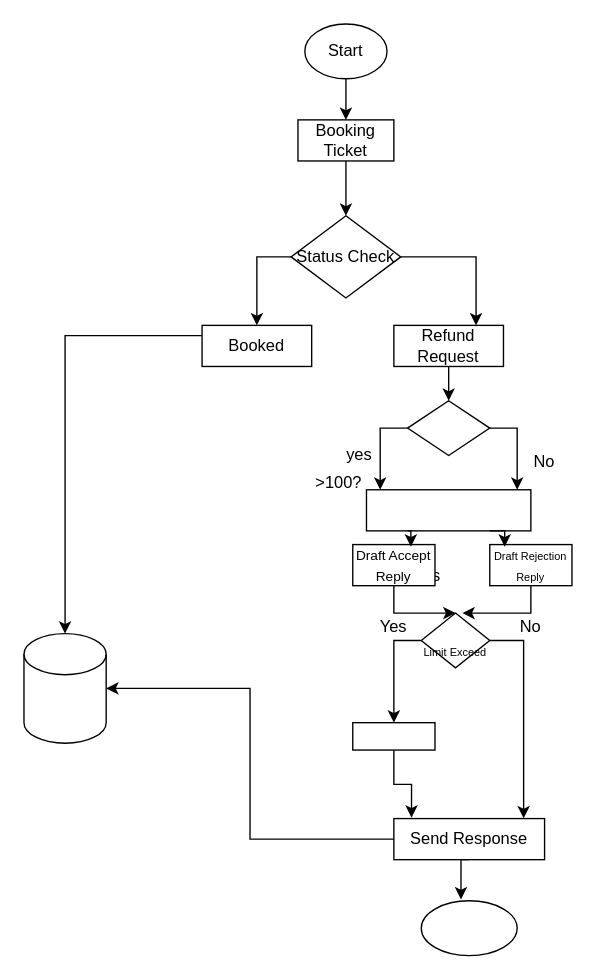
Some shapes in this 596 by 980 pixel diagram are drawn without their labels. The centre of each missing label's shape, as x and y in pixels:
Check Eligibility: pixel 448 427
End: pixel 468 927
LLM Response: pixel 448 509
Second LLM: pixel 393 735
SQL: pixel 64 687
